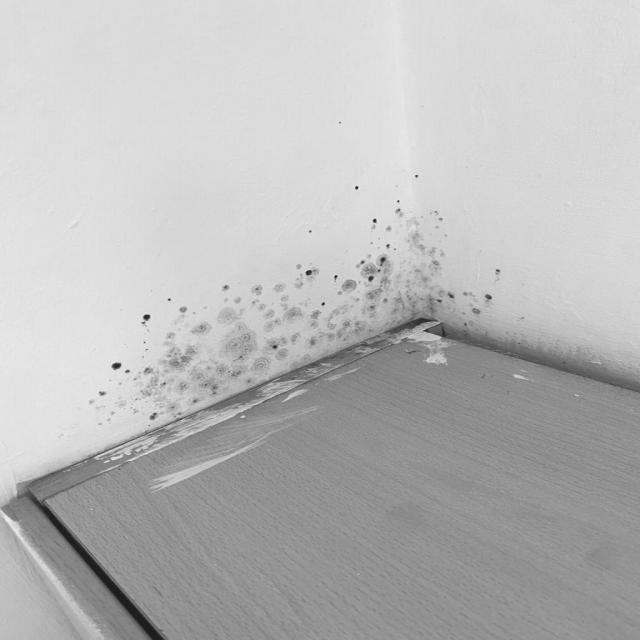stain marks: (330, 168, 510, 338), (102, 294, 241, 435), (501, 314, 640, 391), (252, 258, 324, 386), (212, 274, 237, 294)
